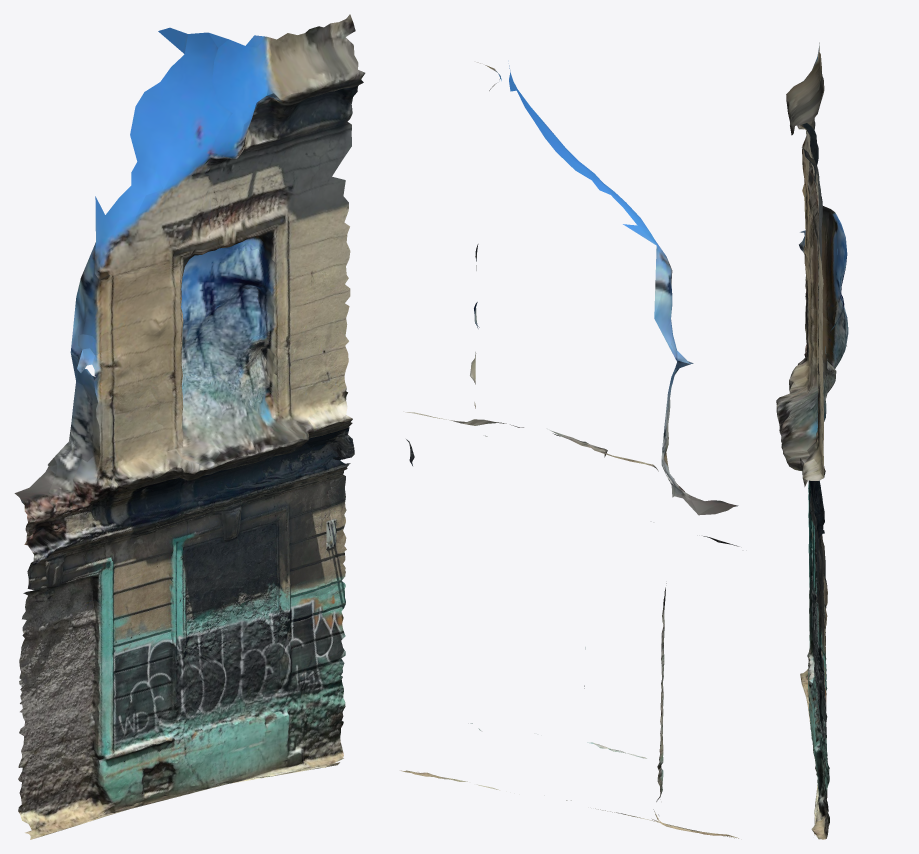
File: frag2.glb
The picture shows the model from 3 angles, left to right: view 1: azimuth 30°, elevation 25°; view 2: azimuth 150°, elevation 25°; view 3: azimuth 270°, elevation 25°; orthographic projection. The views are drawn at different scales.
Visible parts, largest first — view 1: 73272153641b35a378ee5cfba35c0b2daaa95dd0/Modelo3; view 2: 73272153641b35a378ee5cfba35c0b2daaa95dd0/Modelo3; view 3: 73272153641b35a378ee5cfba35c0b2daaa95dd0/Modelo3.
Part boxes in pixels (x1=…): 73272153641b35a378ee5cfba35c0b2daaa95dd0/Modelo3: x1=14, y1=14, x2=365, y2=839; 73272153641b35a378ee5cfba35c0b2daaa95dd0/Modelo3: x1=400, y1=62, x2=739, y2=838; 73272153641b35a378ee5cfba35c0b2daaa95dd0/Modelo3: x1=776, y1=42, x2=848, y2=839.
Size of the model in its own units: 0.577 by 1.22 by 0.1863.
Materials: 1 (1 with a texture image).
